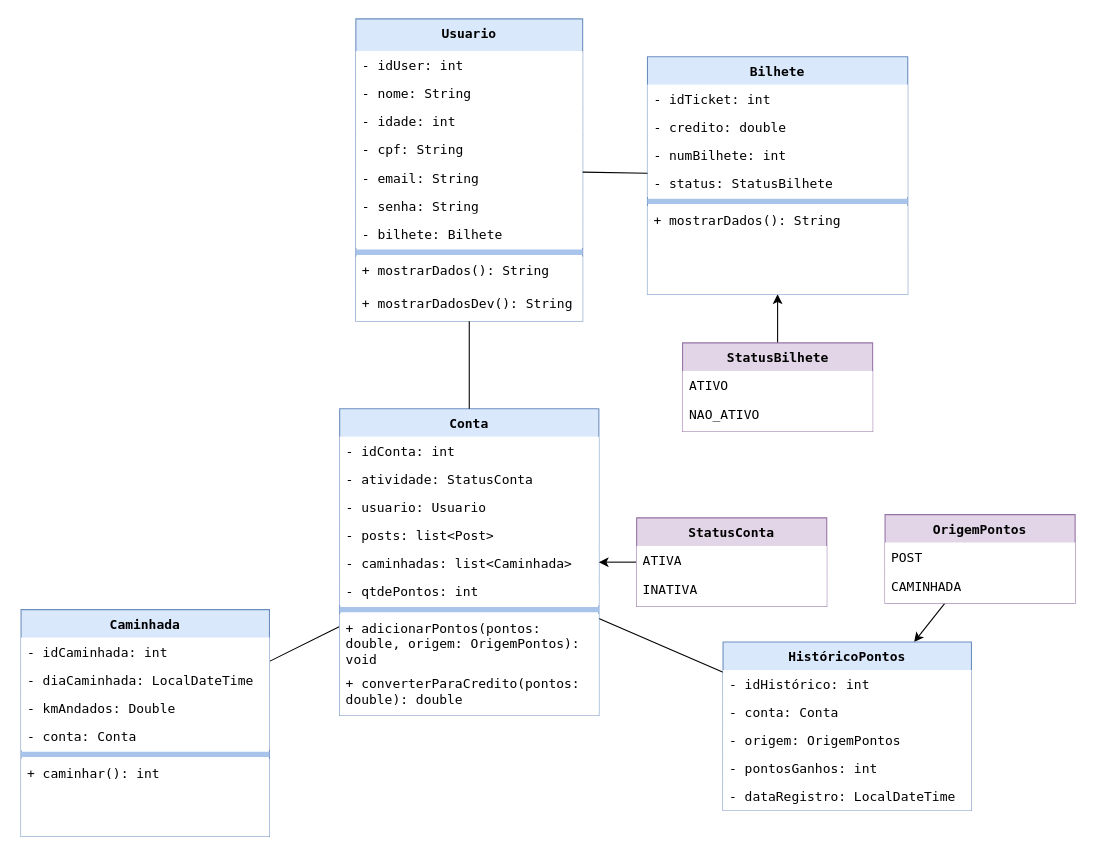
Image size: 1094x859. Some labels were removed from this diagram. The centre of each missing label's shape, as x and y in pixels:
"+ cadastrarBilhete(numBilhete: int, status: StatusBilhete): boolean" belongs at pixel 777 267.
"+ calcularPontos(kmAndados: double): int" belongs at pixel 145 812.
